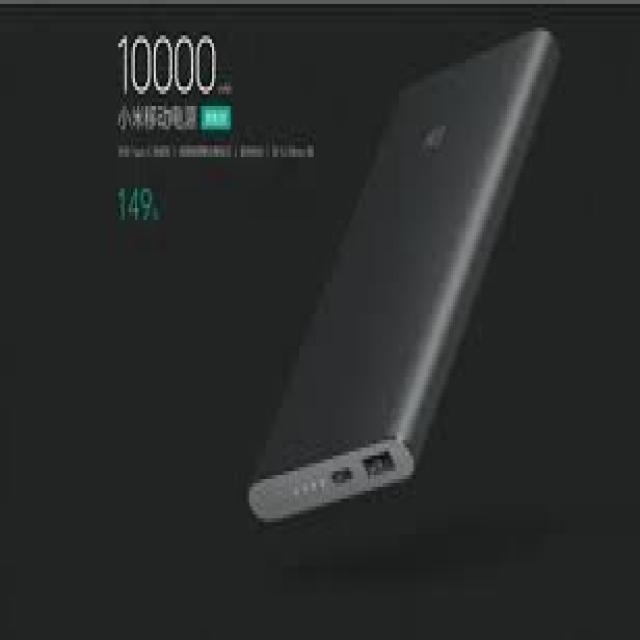portable-charger: (239, 25, 558, 528)
